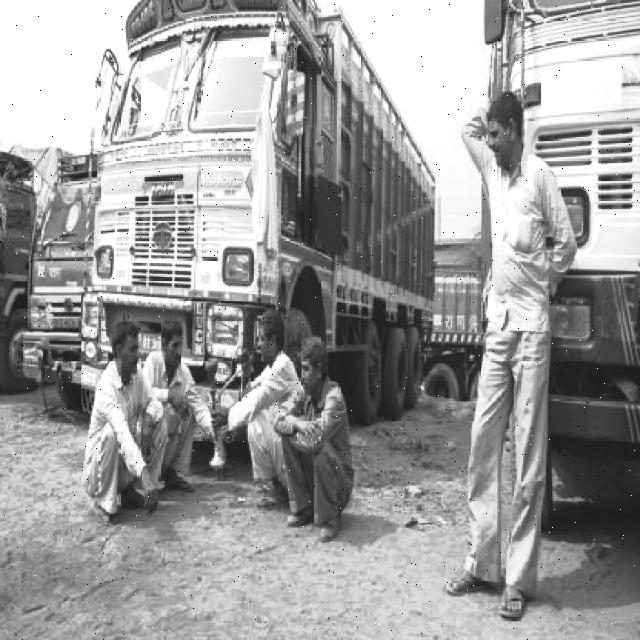HCV: (103, 18, 432, 420), (464, 12, 640, 477)
